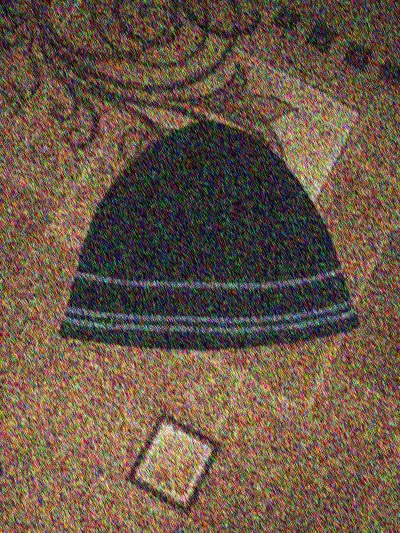Hat: (48, 100, 362, 369)
